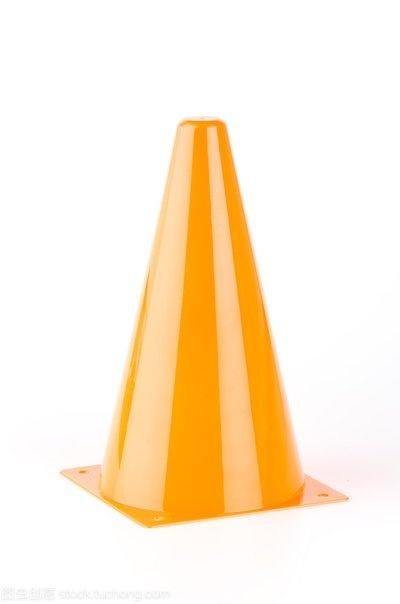cone_barrel: (99, 114, 314, 518)
